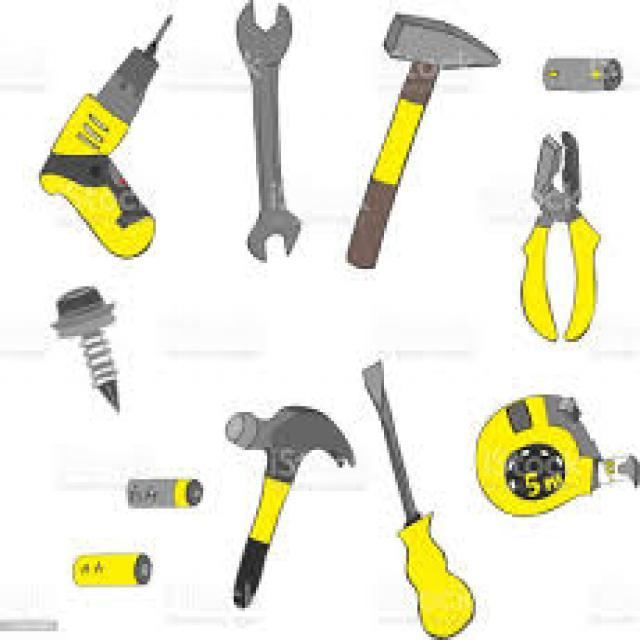drill: (34, 5, 184, 267)
hammer: (341, 8, 506, 274), (210, 397, 356, 614)
pliers: (353, 349, 476, 640), (514, 120, 608, 349)
wrench: (225, 0, 306, 263)
